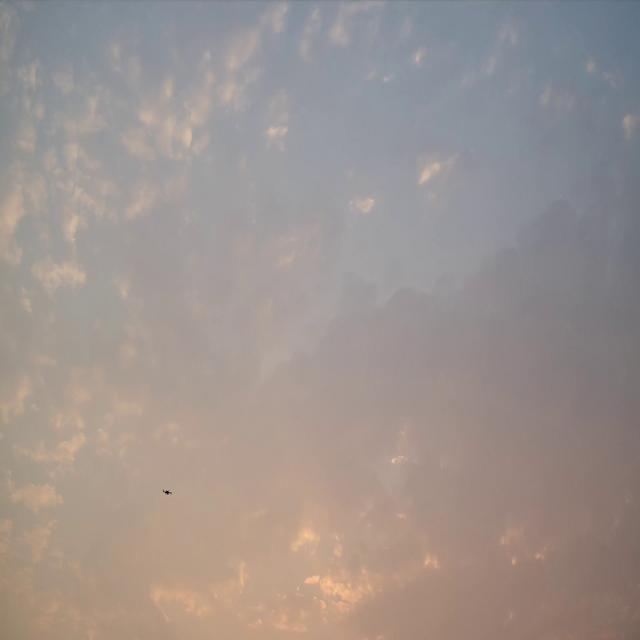drone: (162, 488, 172, 495)
